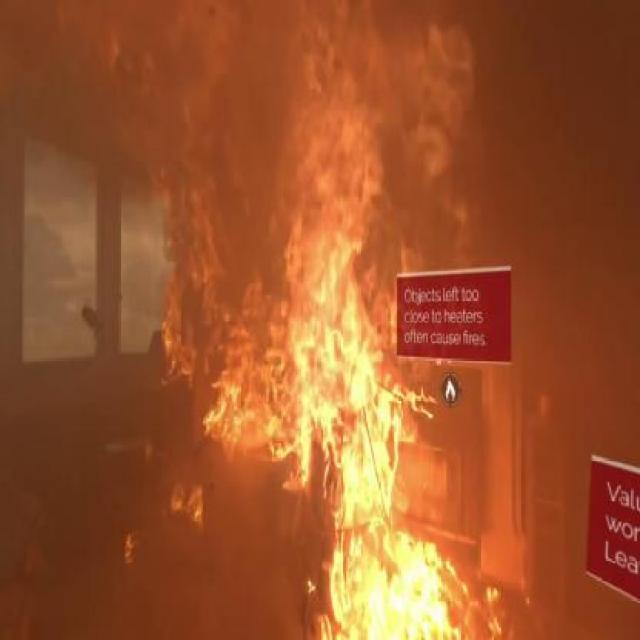fire: (298, 251, 452, 640)
smoke: (11, 1, 190, 444), (442, 1, 627, 272)
